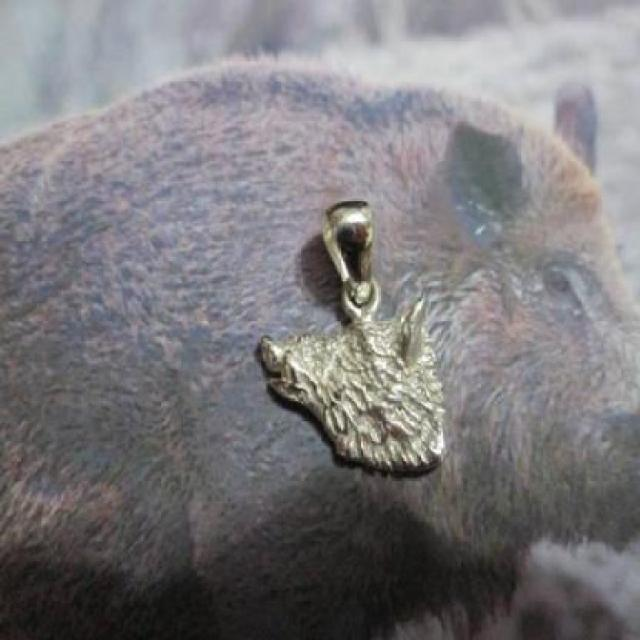Wild Boar: (0, 52, 640, 640)
